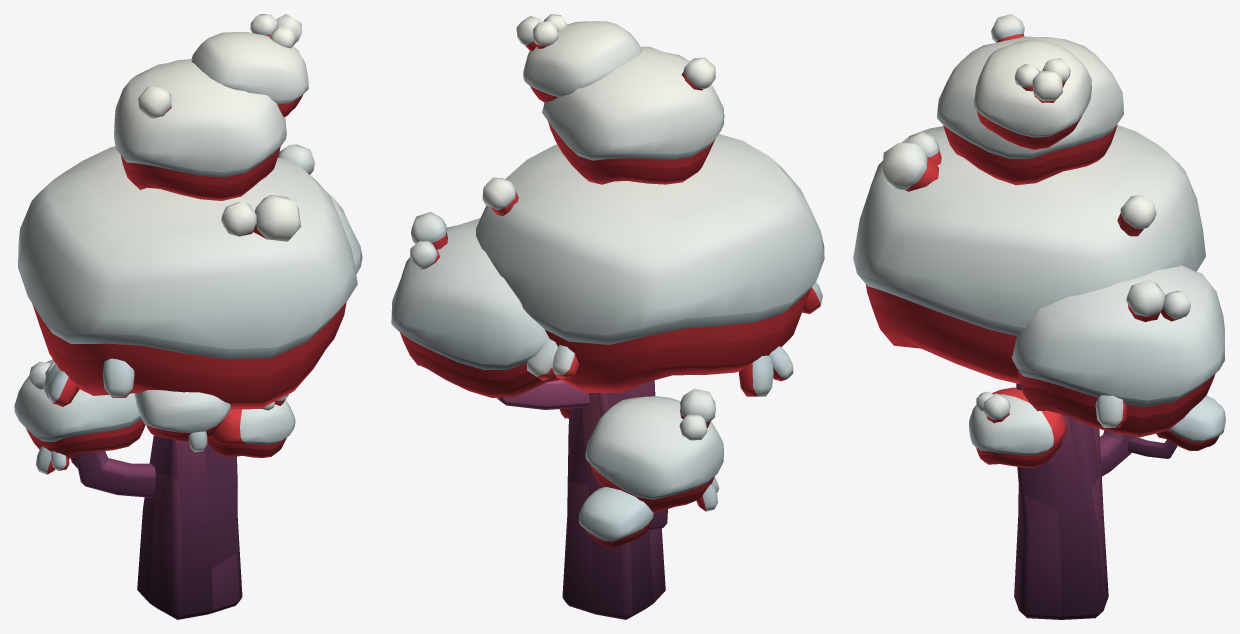
Rendered from grassland_tree_col3_8_snow.fbx.
3 views of the same model, side by side, from view 1: azimuth 30°, elevation 25°; view 2: azimuth 150°, elevation 25°; view 3: azimuth 270°, elevation 25° (orthographic). The views are drawn at different scales.
Parts seen in each view (by area): view 1: grassland_tree_col3_8_snow; view 2: grassland_tree_col3_8_snow; view 3: grassland_tree_col3_8_snow.
Boxes of the visible parts, <box> form: grassland_tree_col3_8_snow: <box>14,14,362,619</box>; grassland_tree_col3_8_snow: <box>391,14,824,619</box>; grassland_tree_col3_8_snow: <box>853,14,1225,619</box>.
Size of the model in its own units: 961 by 1490 by 868.
1 material, 1 textured.
